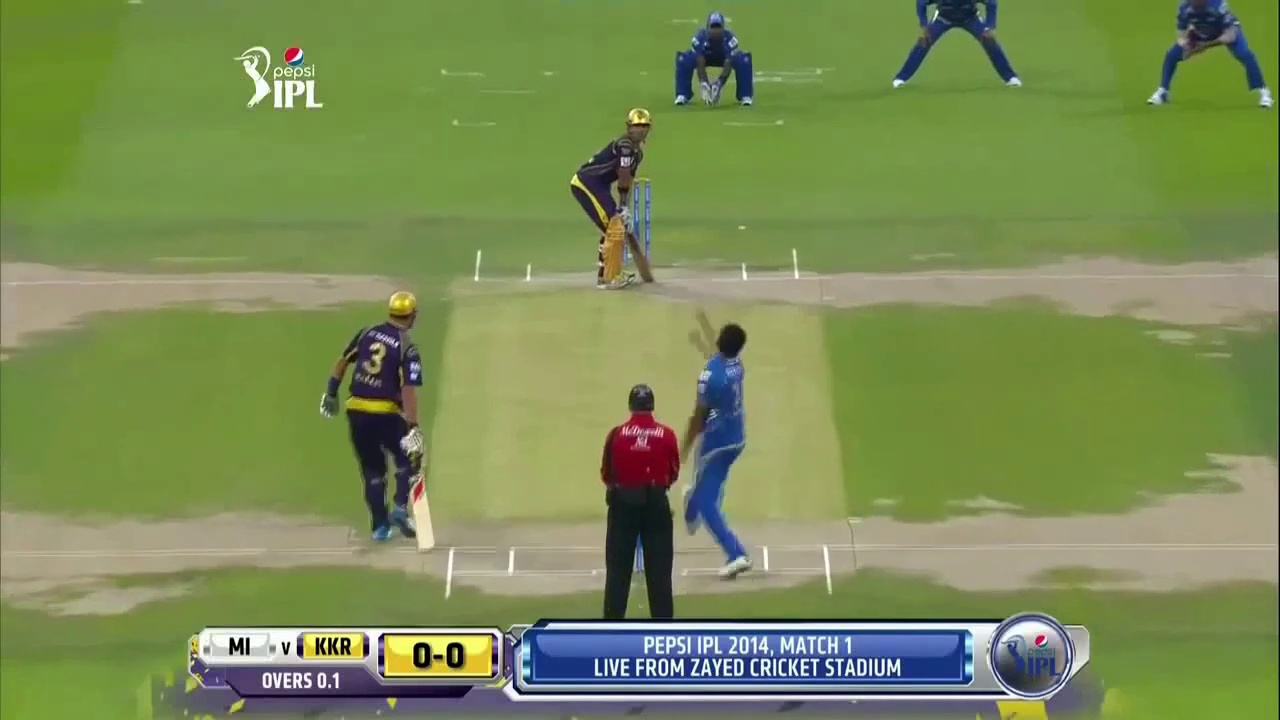bat: (408, 475, 435, 552), (627, 234, 657, 285)
